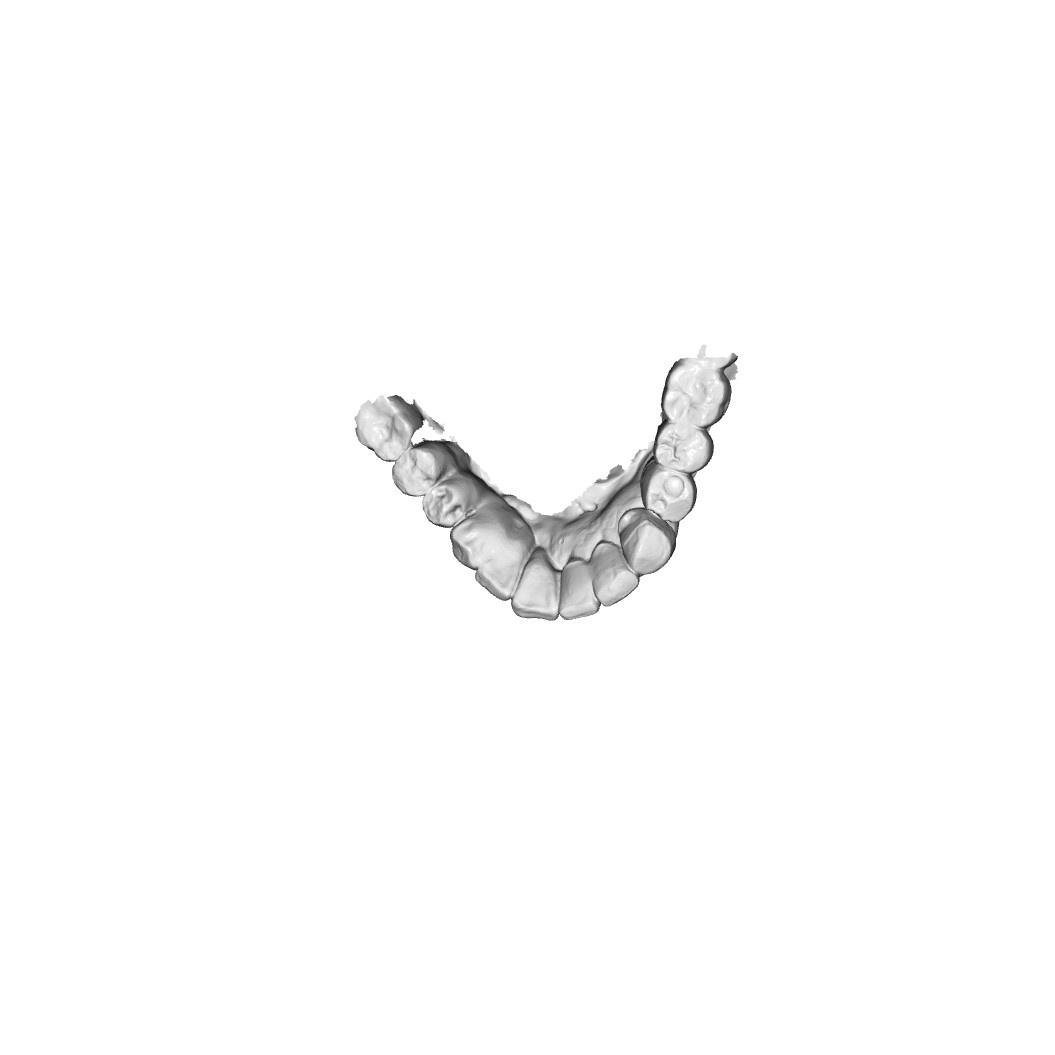canine: (619, 511, 679, 570), (450, 513, 500, 569)
incisor: (512, 554, 564, 620), (475, 538, 529, 598), (592, 542, 642, 604), (559, 557, 602, 622)
molar: (349, 394, 421, 460), (661, 357, 727, 427)
premolar: (392, 443, 449, 497), (656, 421, 714, 470), (646, 466, 697, 521), (422, 481, 473, 529)
